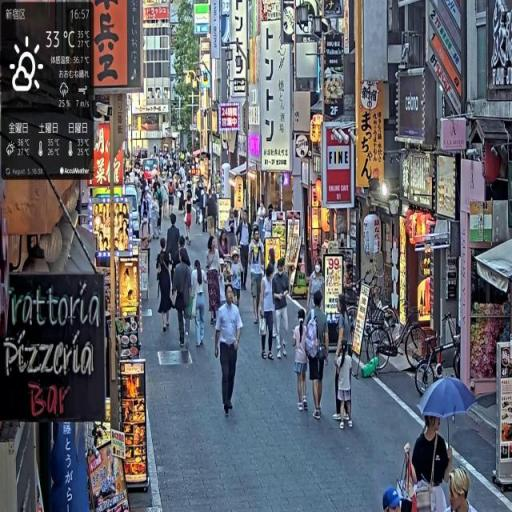person: (214, 282, 245, 417), (411, 411, 452, 505), (305, 287, 331, 425), (172, 250, 193, 347), (273, 257, 292, 360), (293, 307, 310, 413), (157, 240, 175, 339), (260, 262, 277, 363), (191, 257, 209, 350), (238, 211, 251, 292), (230, 249, 244, 311), (185, 194, 195, 245)
